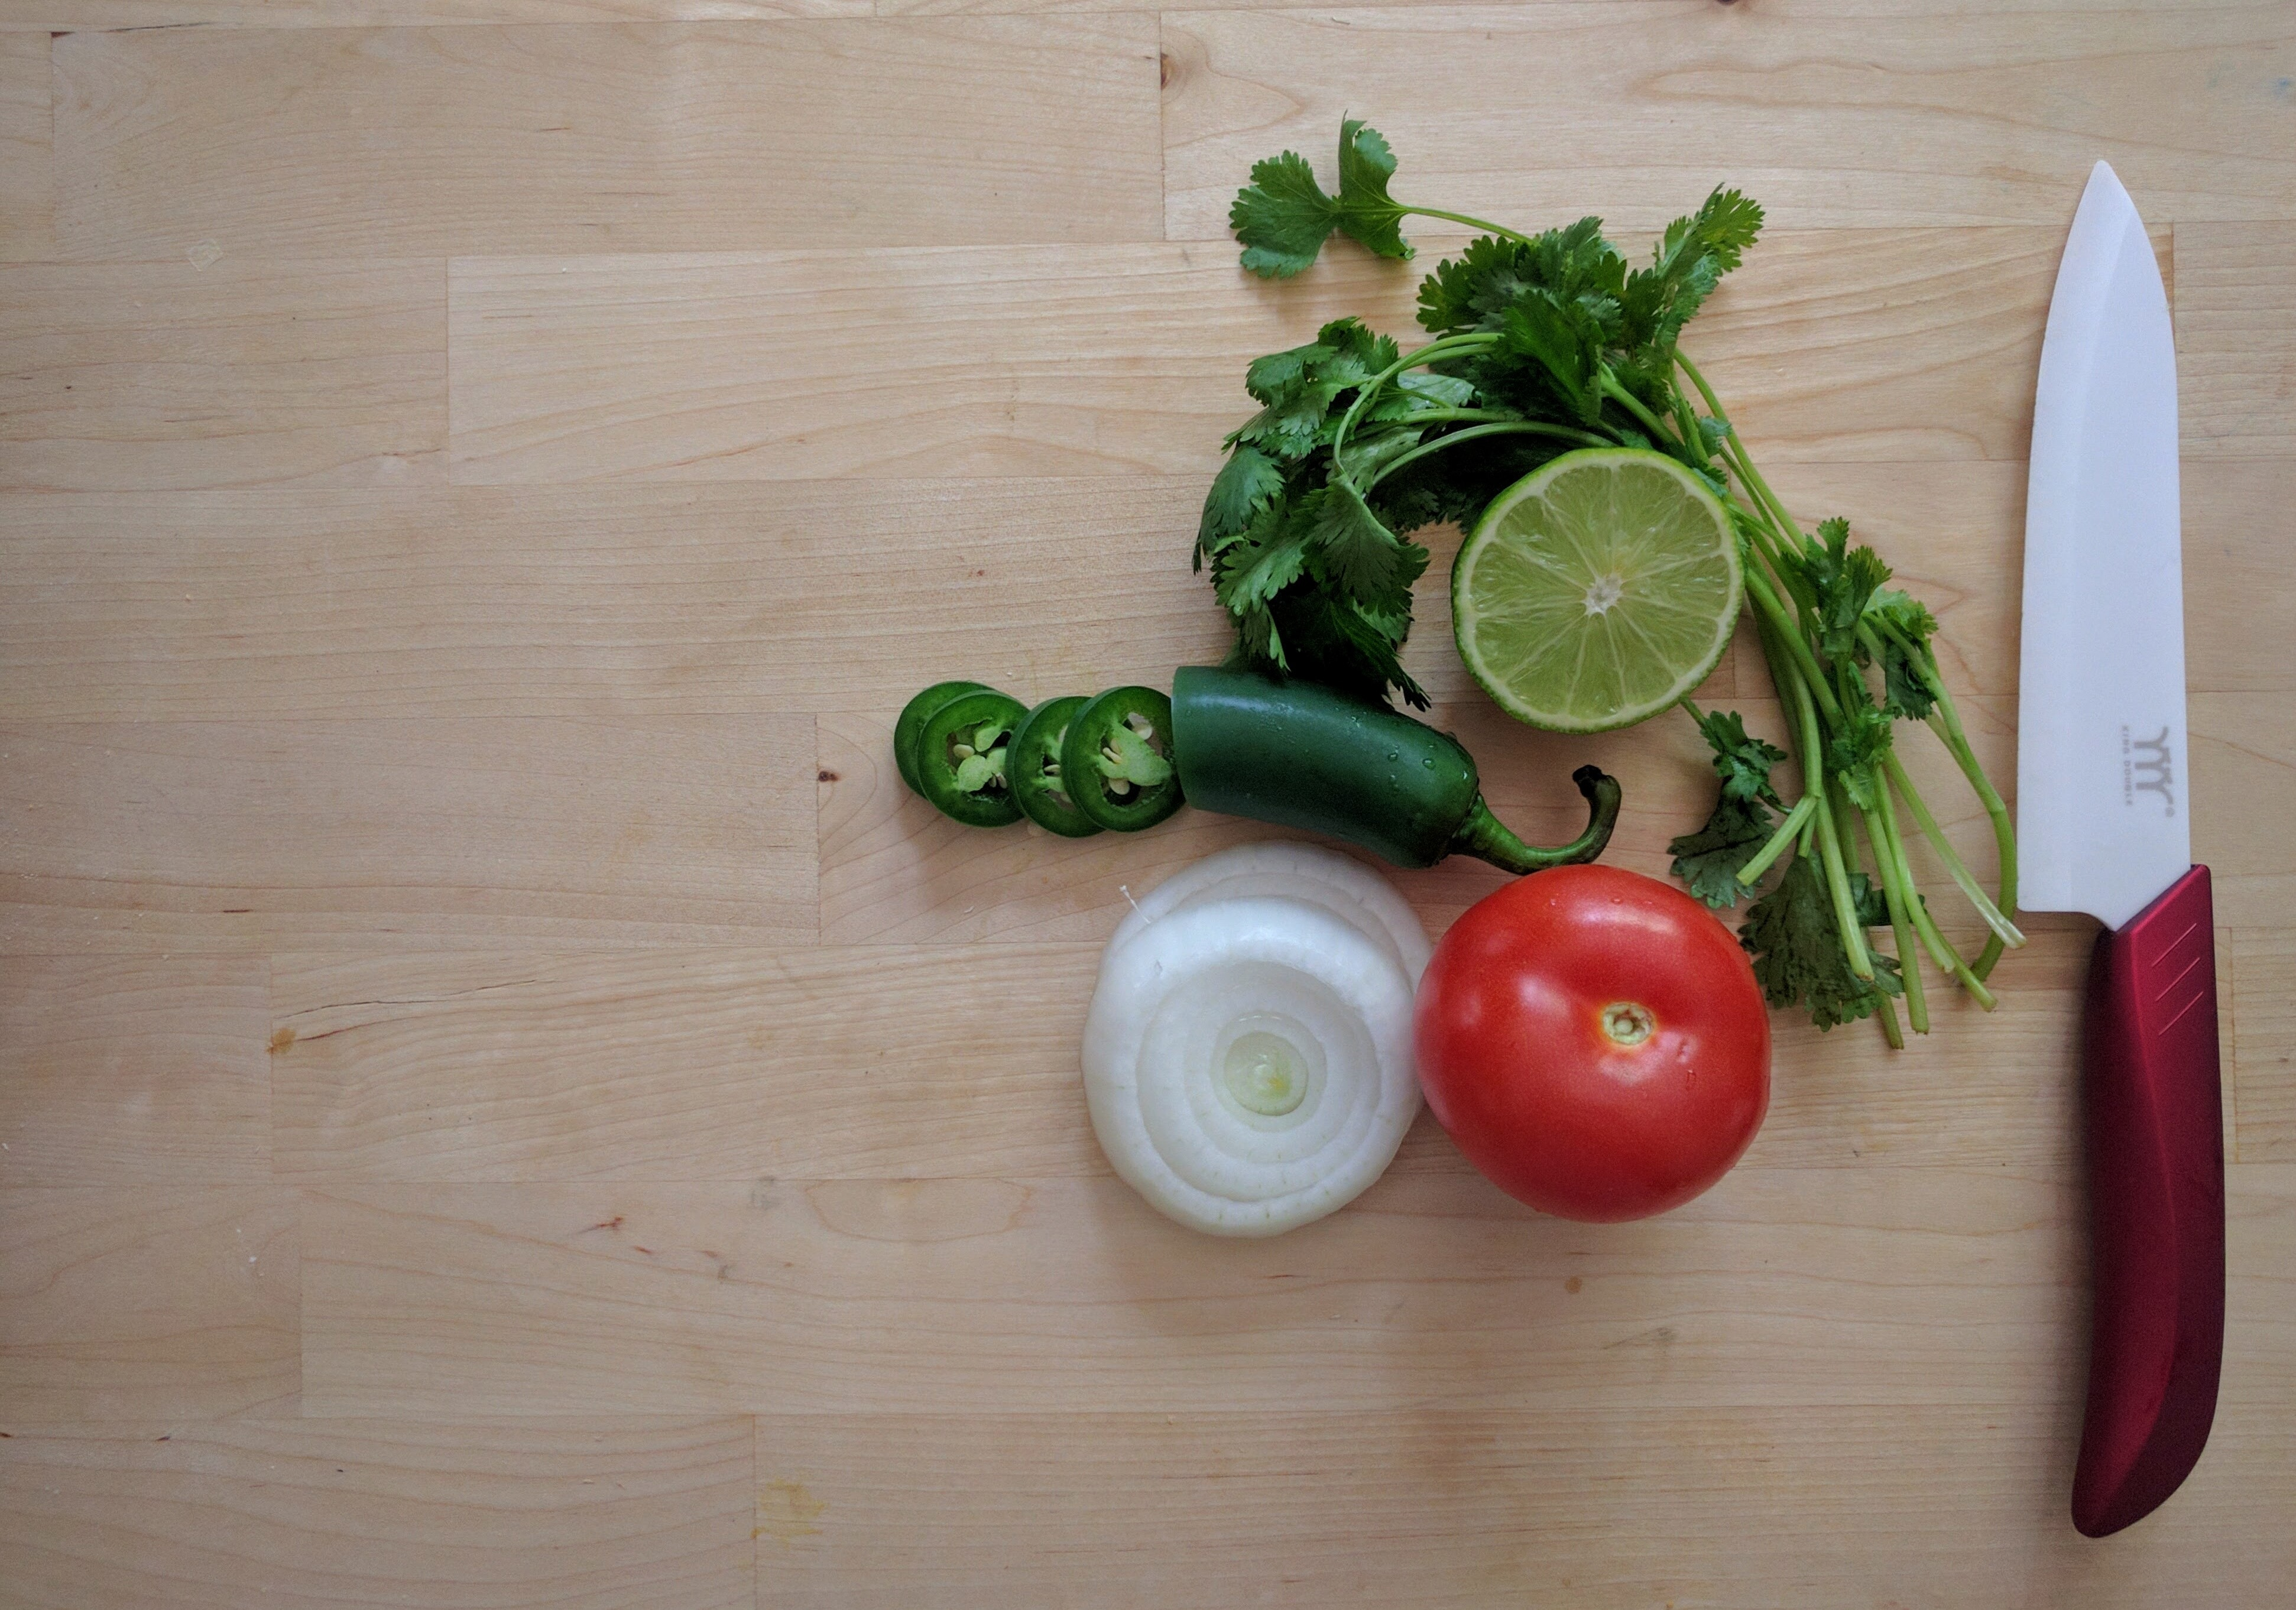knife: (1991, 134, 2268, 1549)
